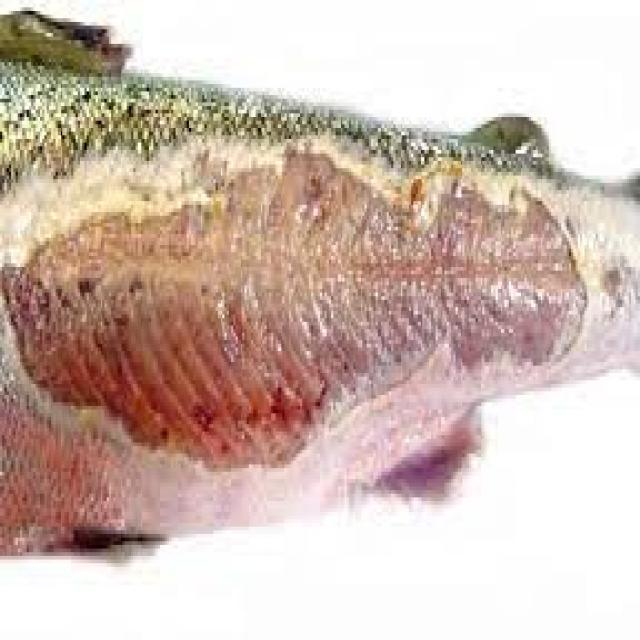EUS Disease: (3, 10, 640, 561)
